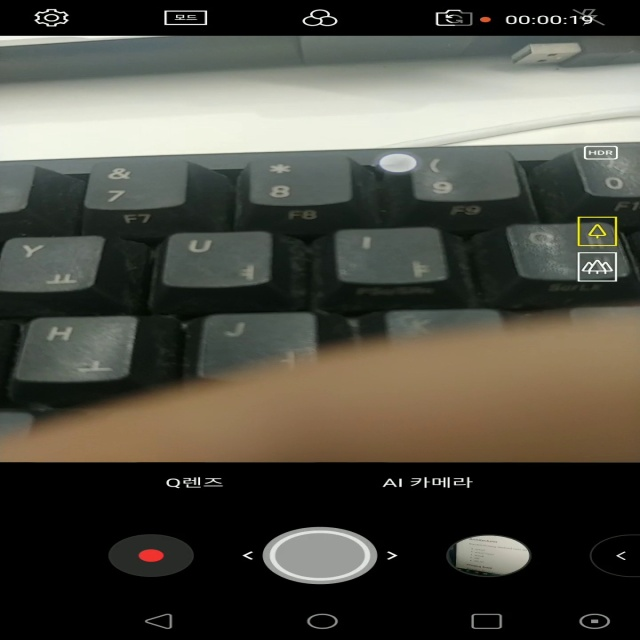Cursor: (376, 152, 421, 175)
